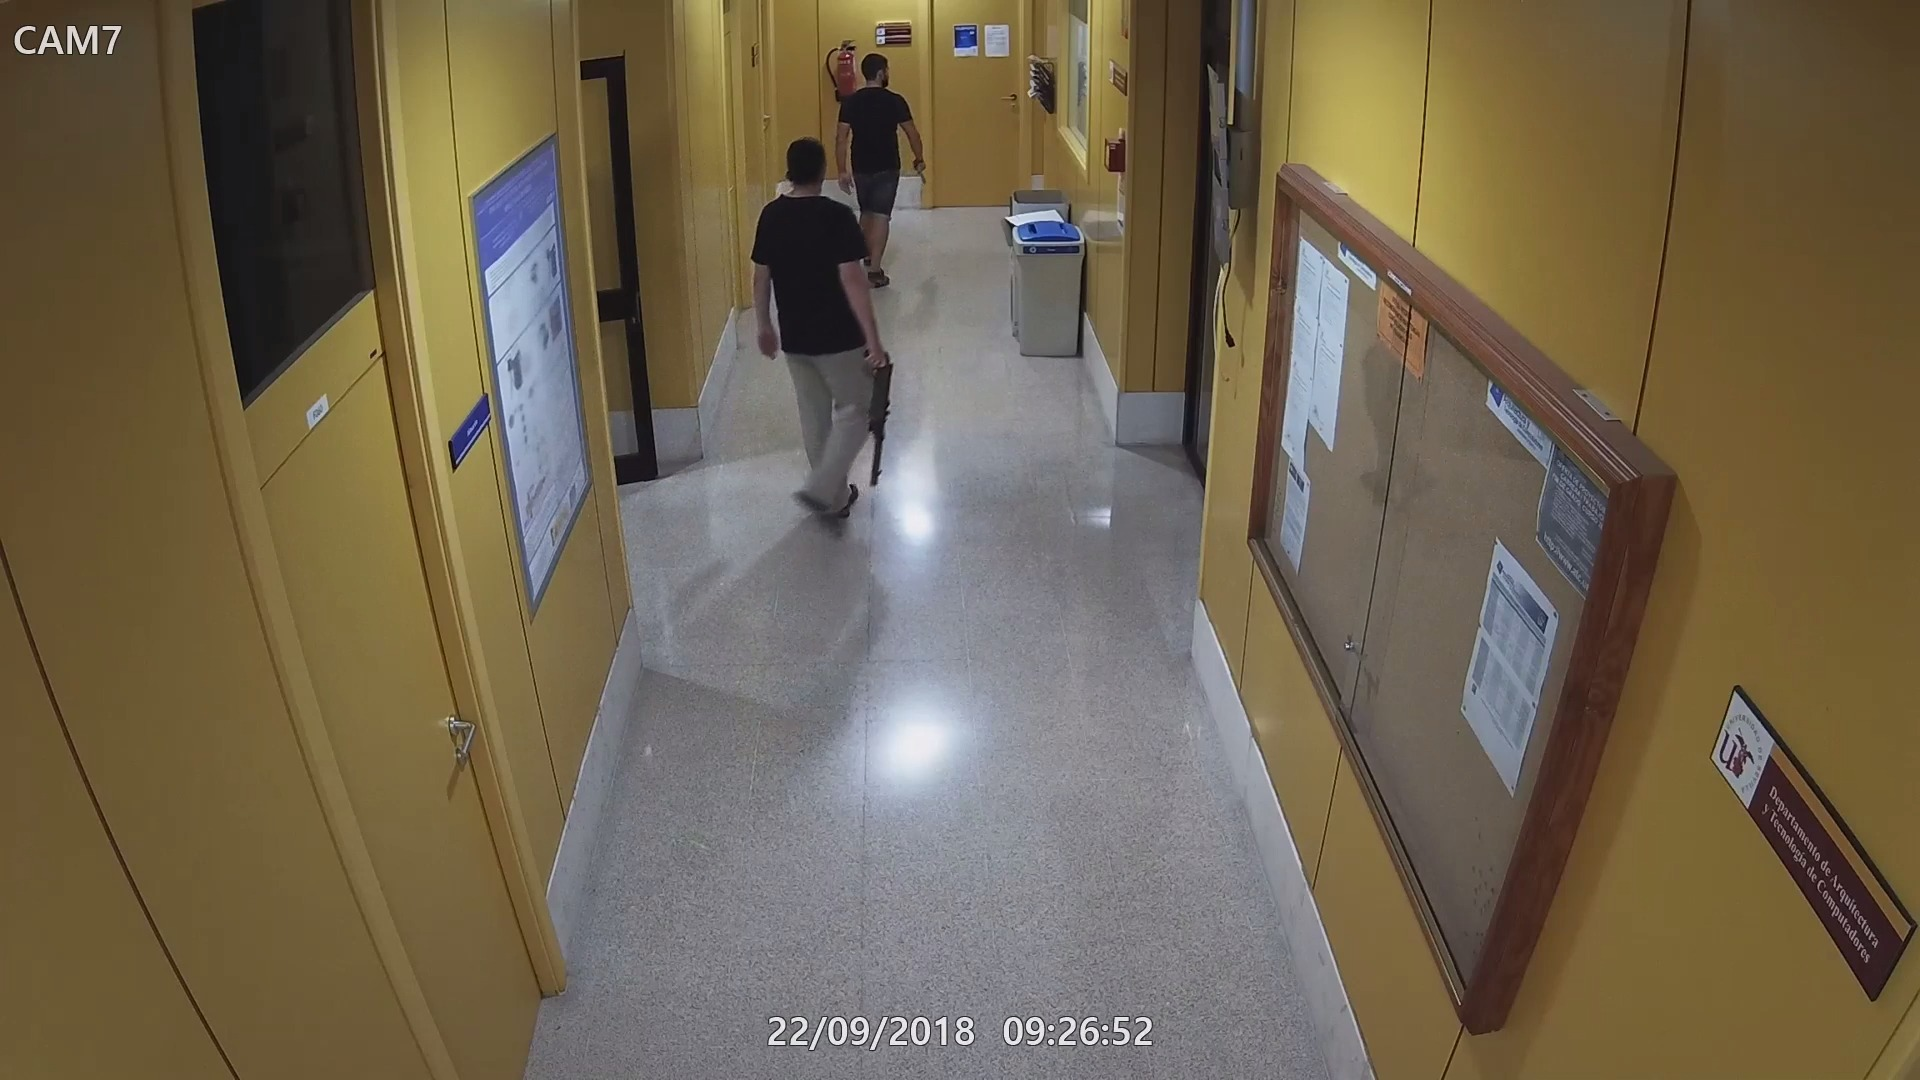Handgun: (906, 157, 932, 189)
Short_rifle: (858, 345, 895, 487)
